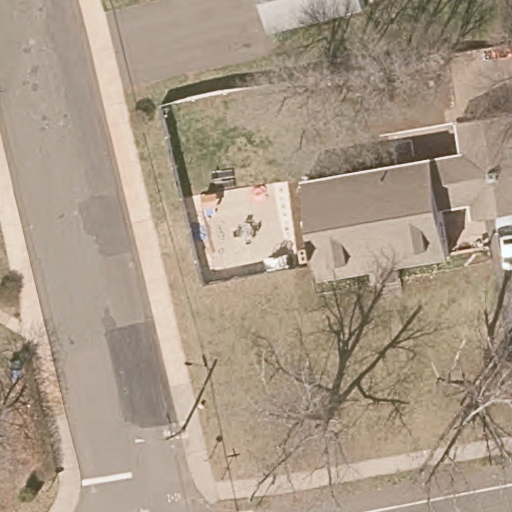DT: (134, 403, 201, 448)
